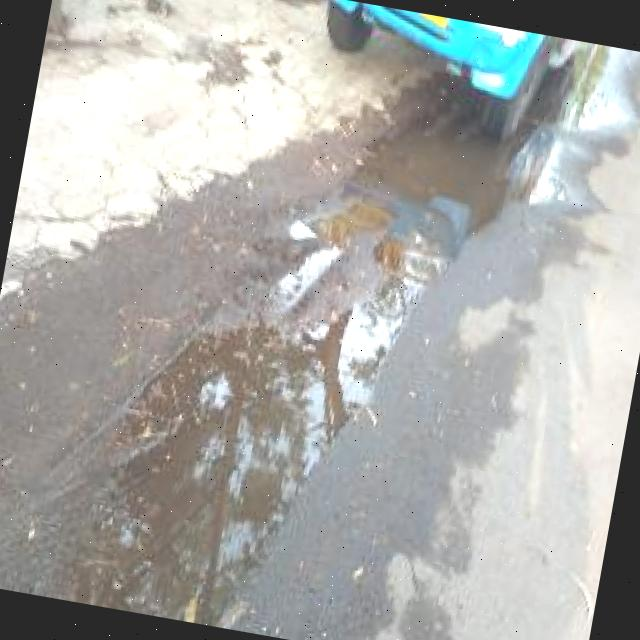stagnation: (86, 100, 448, 640)
